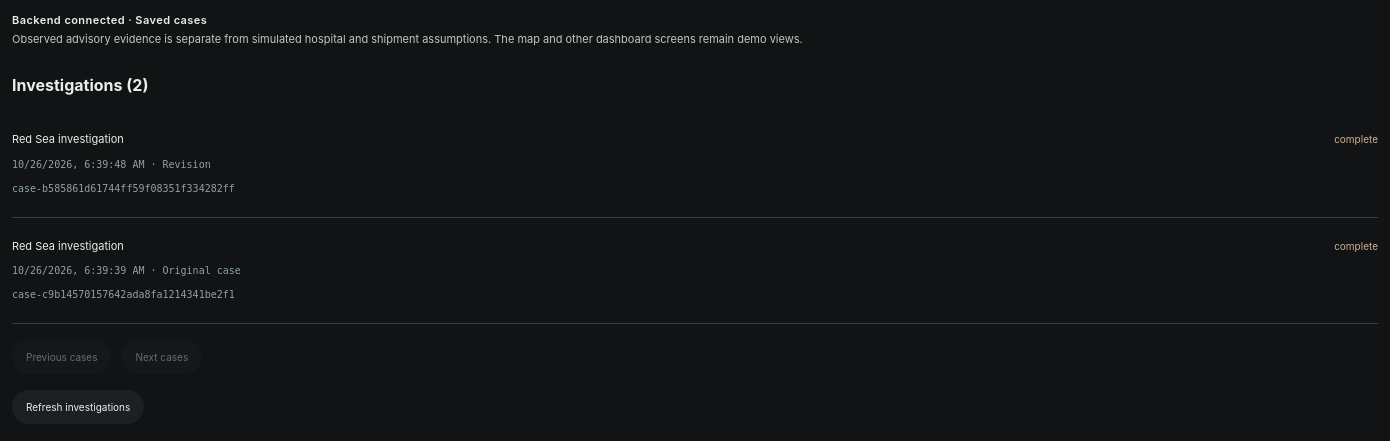
Test: connected saved investigation drawer › rejects a detail failure without showing a mock forecast
Check: the text "Backend connected · Saved cases" is shown, box [12,13,207,27]
Click the button named "case-c9b14570157642ada8fa1214341be2f1".
click(68, 246)  # box [12,218,1378,324]
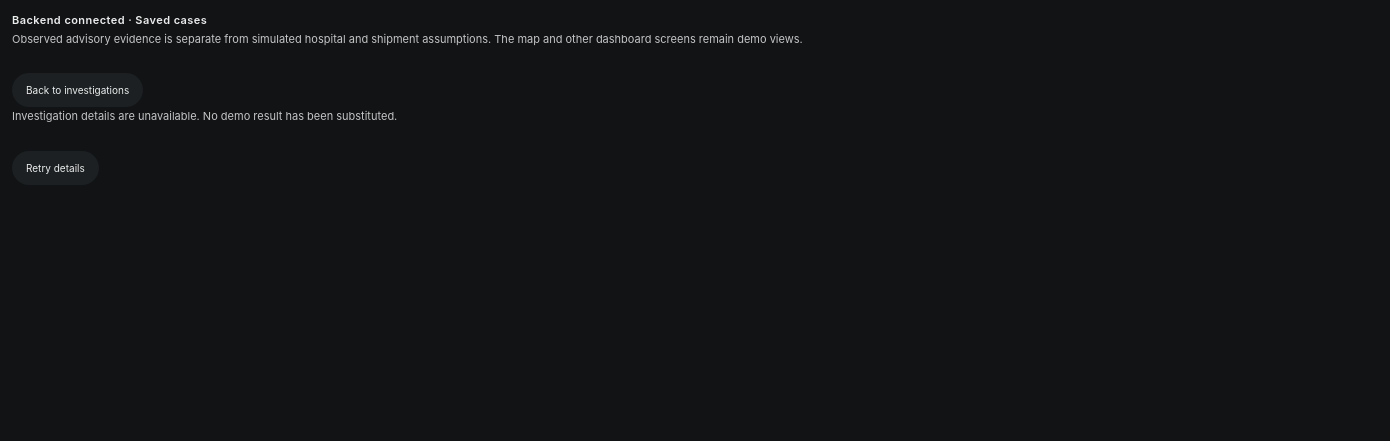
Check: the message shows "Investigation details are unavailable", box [12,109,397,123]
